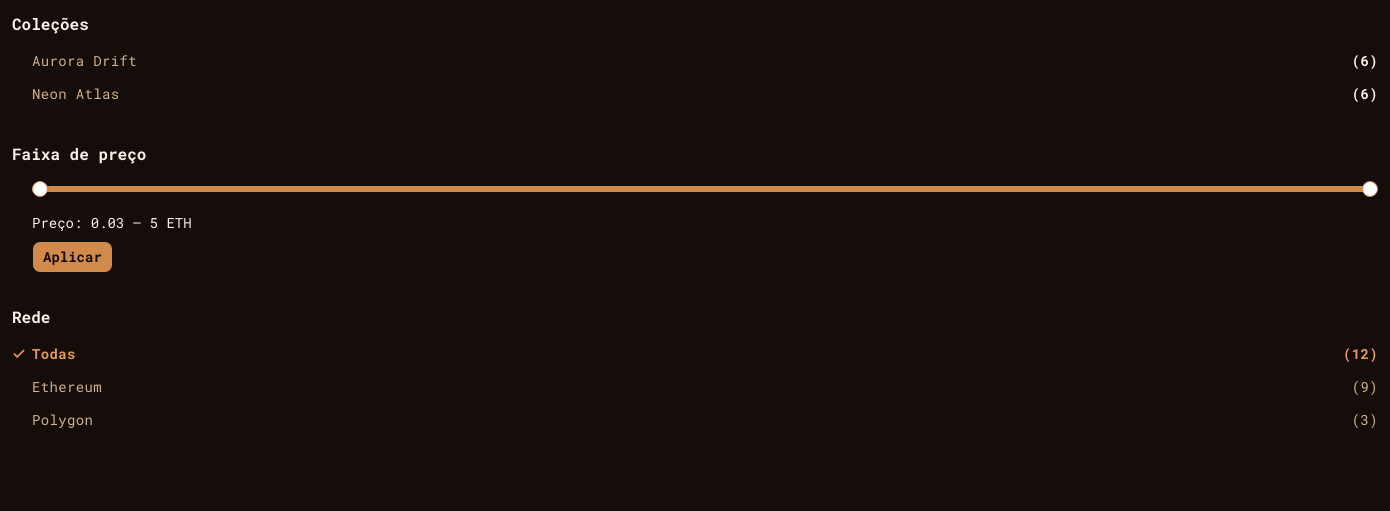
CatalogFilters: sem checkbox e rádio visíveis, com a semântica › coleções são checkboxes nomeados pelo texto e marcar um grava a coleção na URL
The image size is (1390, 511).
Step 1. Click the checkbox labelled "Neon Atlas (6)" → click(76, 94), box x1=12 y1=77 x2=1378 y2=110
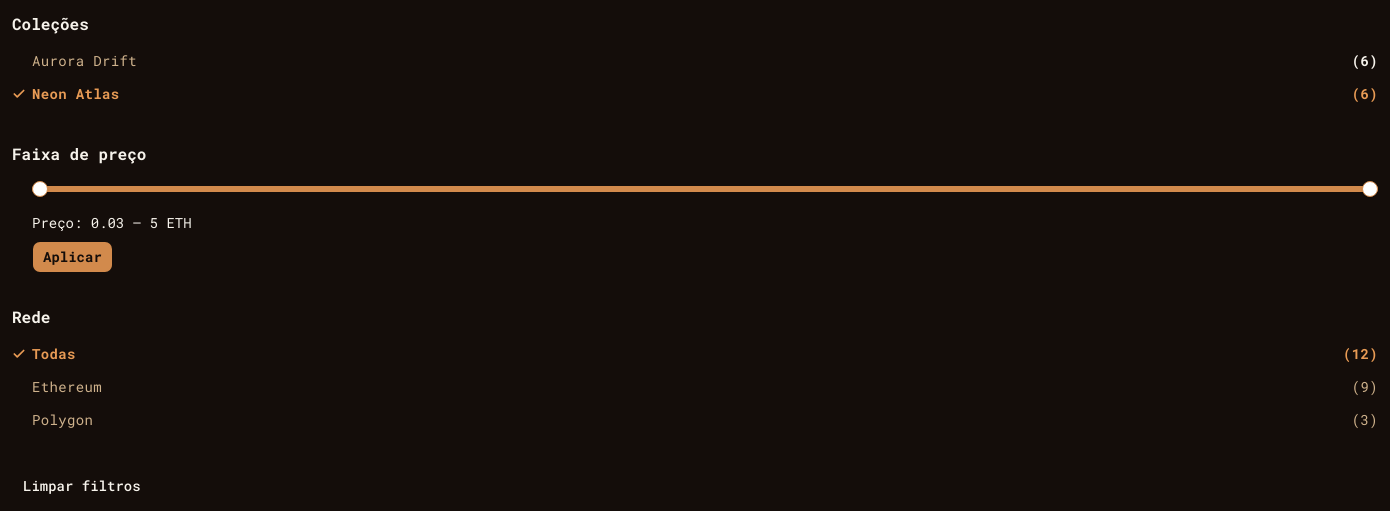
Check: the checkbox labelled "Neon Atlas (6)" is checked, box x1=12 y1=77 x2=1378 y2=110
